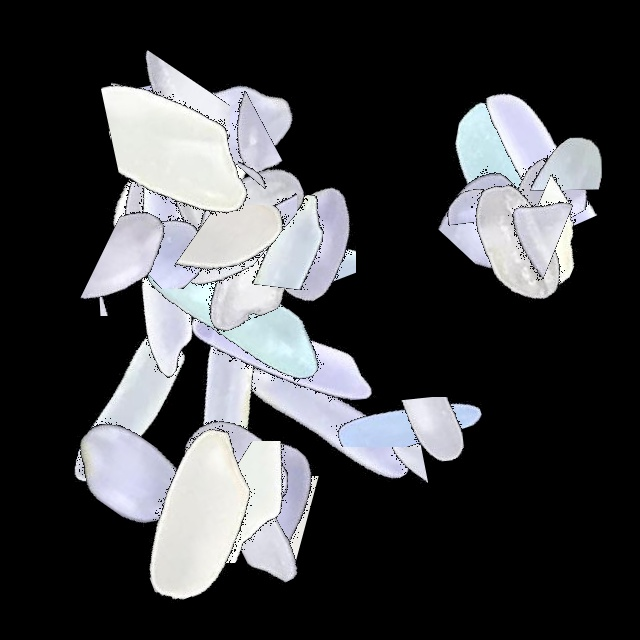Broken: (449, 21, 623, 271), (72, 58, 322, 224), (111, 0, 276, 250), (170, 59, 328, 309), (435, 67, 590, 317), (207, 96, 356, 346), (84, 20, 230, 270), (270, 307, 520, 447), (390, 99, 640, 239), (111, 22, 245, 272), (39, 212, 289, 346), (65, 158, 315, 289), (87, 48, 216, 298), (218, 98, 345, 348), (310, 397, 560, 521), (173, 65, 297, 315), (161, 441, 411, 563), (84, 91, 334, 209), (505, 6, 622, 256), (378, 172, 628, 284), (433, 40, 542, 290), (118, 205, 368, 311), (21, 218, 271, 316), (130, 476, 380, 572), (534, 96, 620, 346), (204, 489, 454, 574), (241, 376, 326, 626), (146, 88, 230, 338), (352, 381, 432, 631), (238, 22, 316, 272), (216, 461, 466, 537)
Full: (65, 50, 315, 300), (200, 295, 450, 545), (390, 66, 640, 316), (147, 372, 397, 622), (6, 276, 256, 526), (31, 49, 281, 299), (98, 295, 348, 545), (3, 351, 253, 601), (123, 390, 373, 640), (105, 0, 355, 250), (36, 148, 286, 398), (157, 230, 407, 480), (192, 121, 442, 371), (114, 189, 364, 439), (126, 137, 376, 387), (112, 341, 362, 591), (66, 390, 316, 640), (117, 90, 367, 340), (390, 117, 640, 367)
